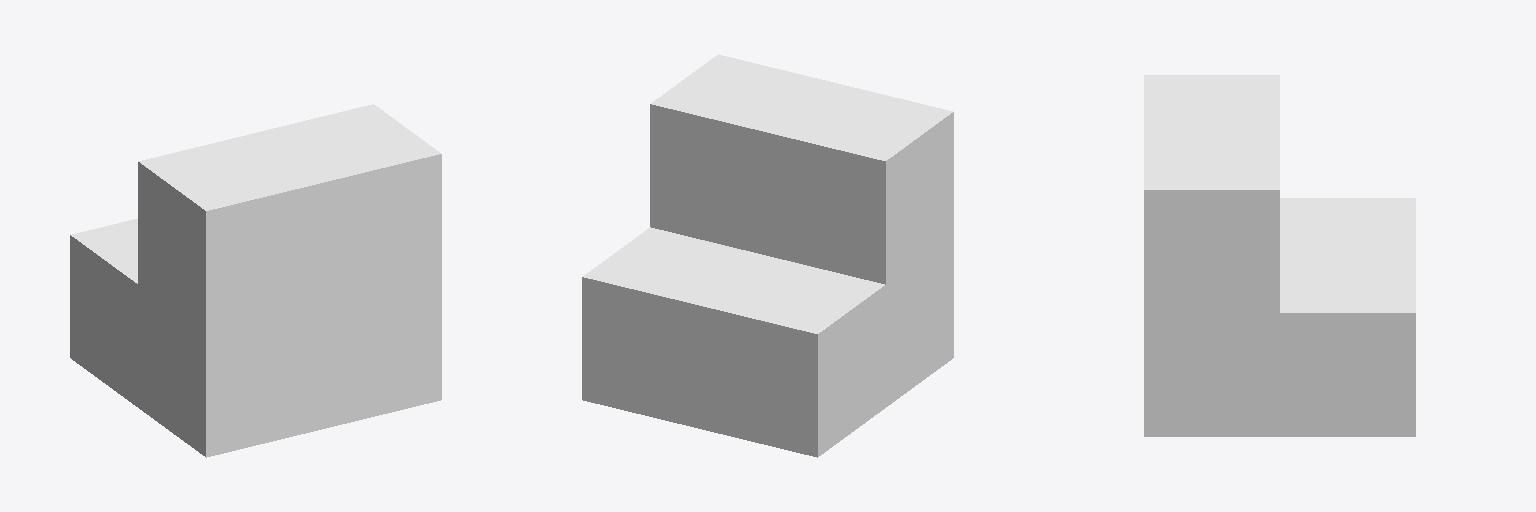
Rendered from Staire.obj.
3 renders of one model, left to right at view 1: azimuth 30°, elevation 25°; view 2: azimuth 150°, elevation 25°; view 3: azimuth 270°, elevation 25°, orthographic.
Visible parts, largest first — view 1: Object.1; view 2: Object.1; view 3: Object.1.
Boxes of the visible parts, x1=… form: Object.1: x1=70, y1=104, x2=441, y2=457; Object.1: x1=582, y1=54, x2=953, y2=457; Object.1: x1=1144, y1=75, x2=1415, y2=436.
Bounding box in the file's own units: 1 × 1 × 1.